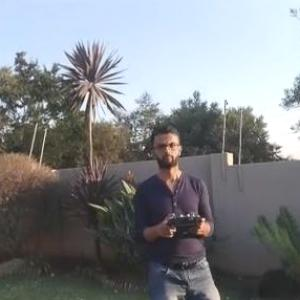follow: (133, 117, 229, 299)
